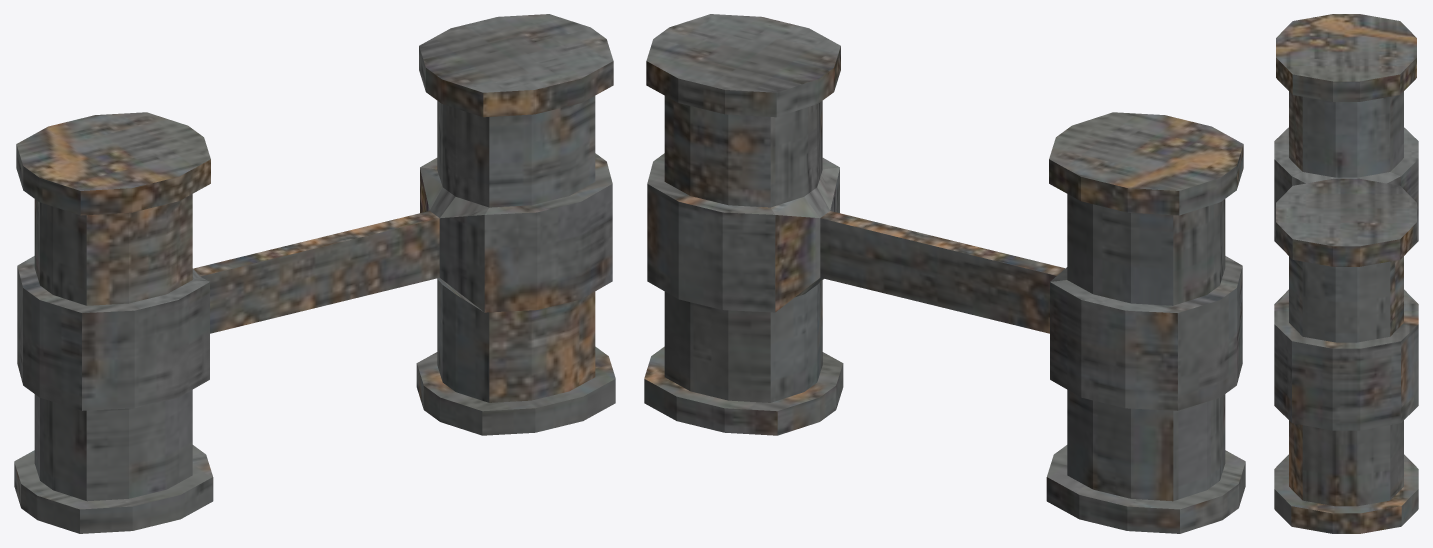
The model's file is kerning_ladder_middle.gltf.
3 views of the same model, side by side, from view 1: azimuth 30°, elevation 25°; view 2: azimuth 150°, elevation 25°; view 3: azimuth 270°, elevation 25° (orthographic). The views are drawn at different scales.
Parts seen in each view (by area): view 1: Ladder Middle; view 2: Ladder Middle; view 3: Ladder Middle.
Part boxes in pixels (x1=…): Ladder Middle: x1=14, y1=14, x2=615, y2=533; Ladder Middle: x1=644, y1=14, x2=1245, y2=533; Ladder Middle: x1=1274, y1=14, x2=1418, y2=533.
Bounding box in the file's own units: 2.13 × 1.22 × 0.5557.
1 material, 1 textured.
